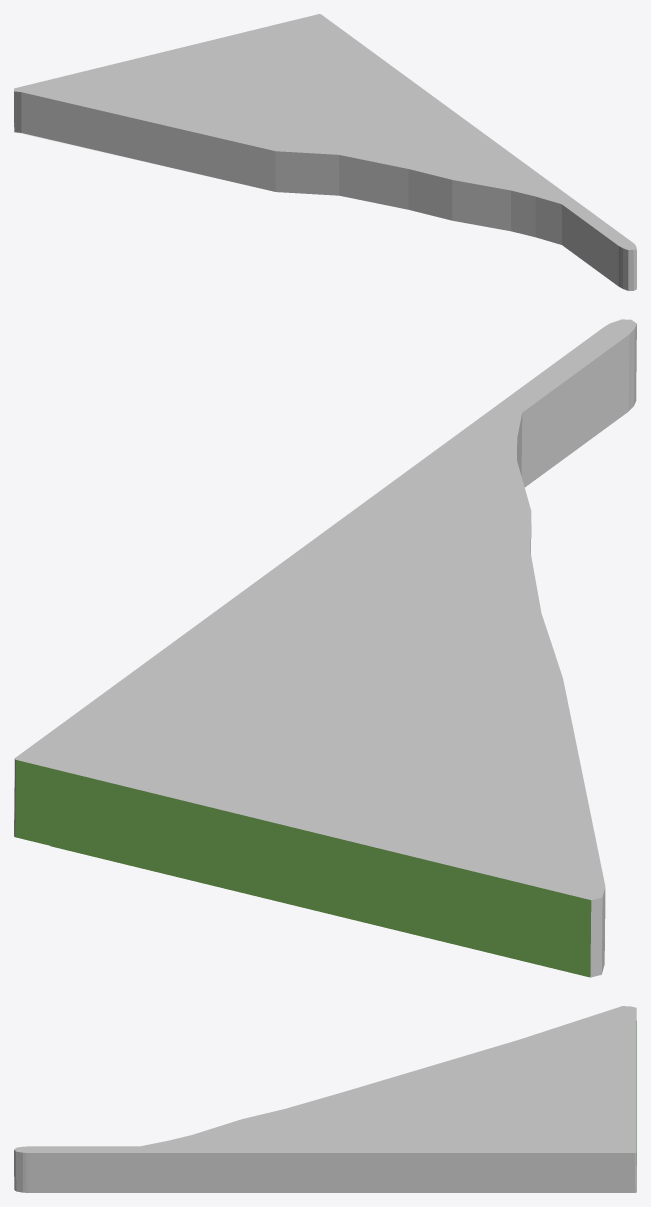
The model's file is TriangleCurb.fbx.
3 views of the same model, one above another, from view 1: azimuth 30°, elevation 25°; view 2: azimuth 150°, elevation 25°; view 3: azimuth 270°, elevation 25° (orthographic). The views are drawn at different scales.
Visible parts, largest first — view 1: BezierCurve; view 2: BezierCurve; view 3: BezierCurve.
Boxes of the visible parts, <box> form: BezierCurve: <box>14,14,636,290</box>; BezierCurve: <box>14,319,636,977</box>; BezierCurve: <box>14,1006,636,1192</box>.
Size of the model in its own units: 220 by 33.33 by 395.
